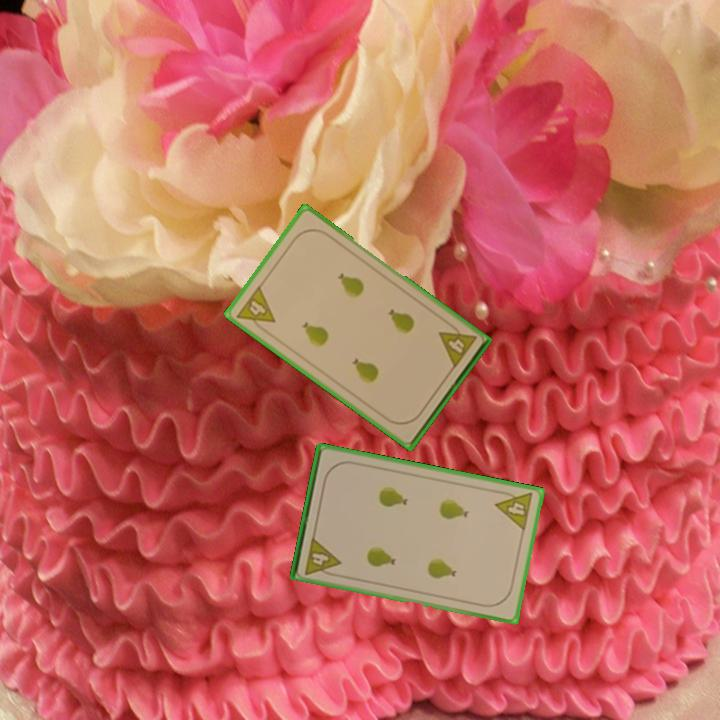4p: (233, 282, 278, 336), (435, 318, 479, 371), (492, 486, 536, 534), (301, 533, 343, 579)
